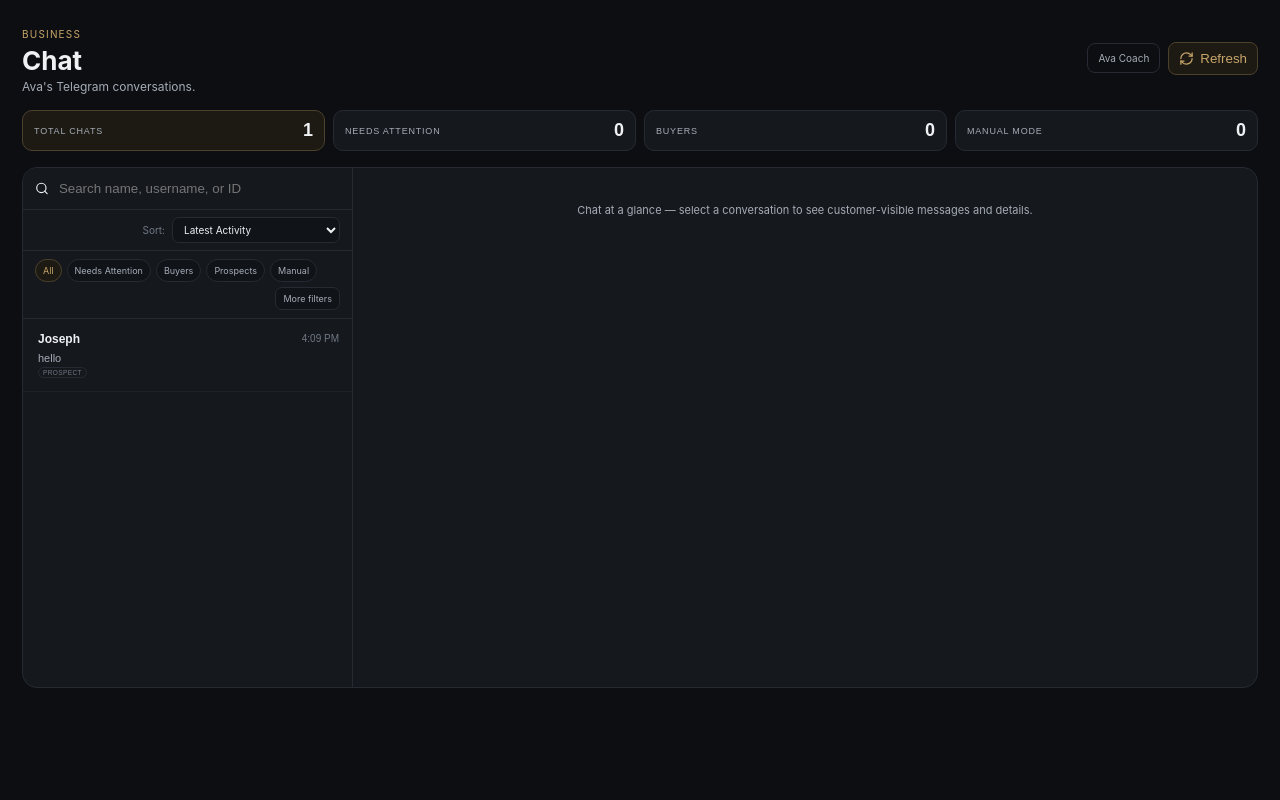
Scenario: PPV Escalation intelligence › renders Joseph's backend warming projection without a percentage or PPV Sales Stage
The image size is (1280, 800).
Step 1. Click the button "Joseph hello PROSPECT 4:09 PM" → (59, 339), box [23,319,352,392]
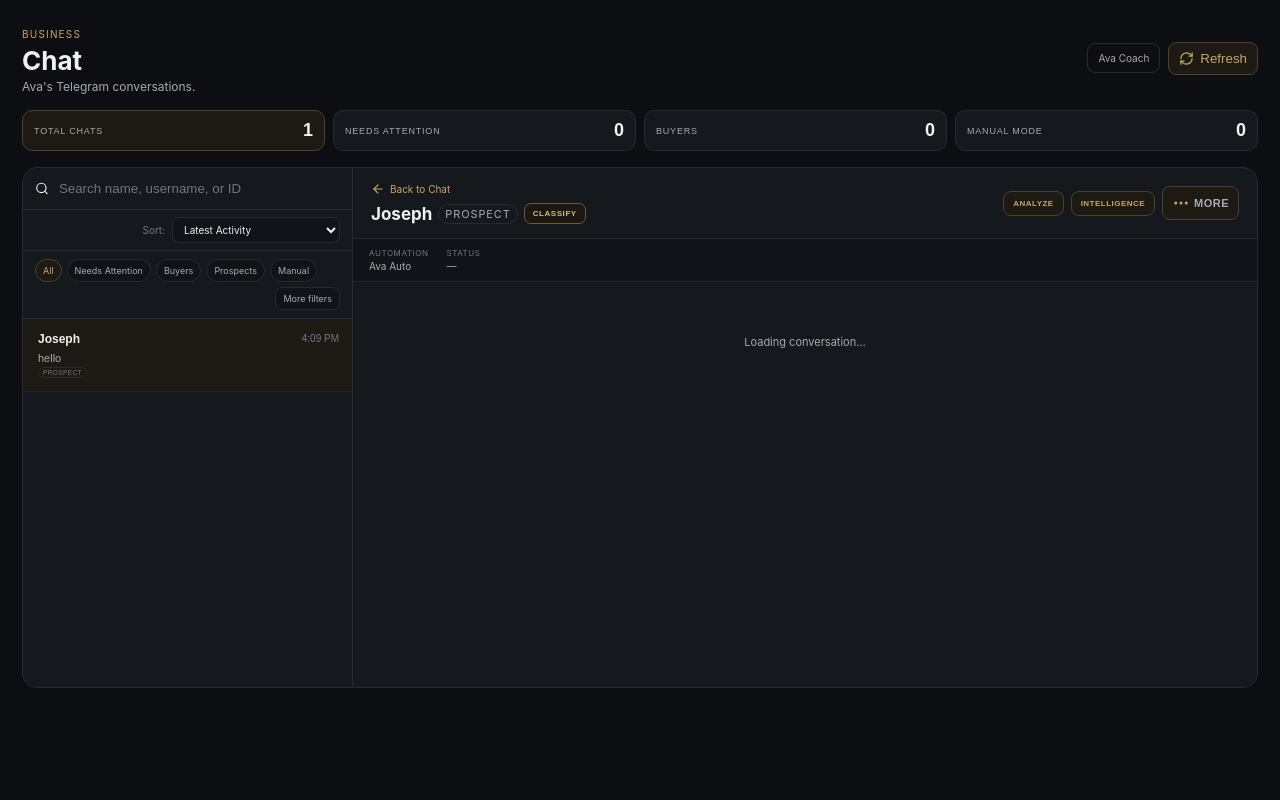
Step 2. Click the button with aria-label "Open Customer Intelligence" → (1113, 203), box [1071,190,1155,216]
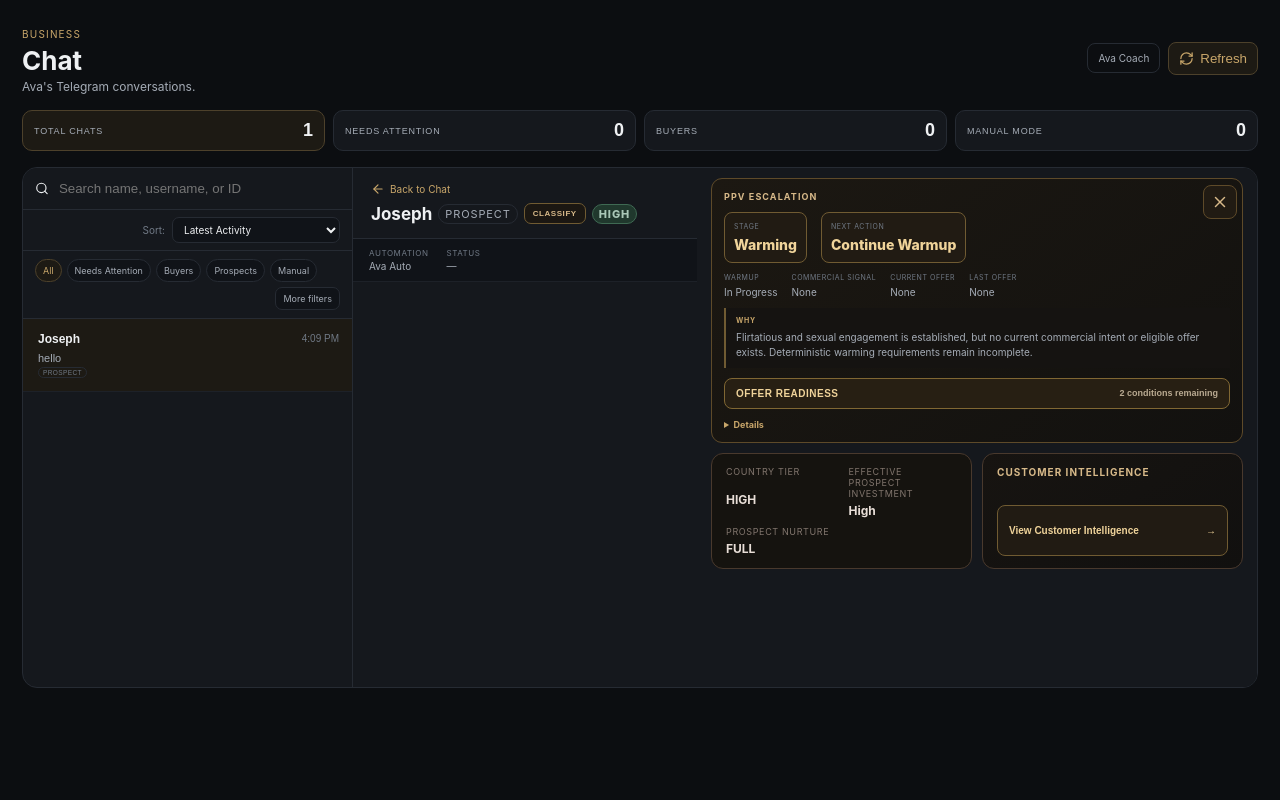
Expected: the element named "Customer Intelligence" is shown, [827,168,1257,687]
Expected: the element "PPV Escalation" shows "Warming", [734,236,797,253]
Expected: the element "PPV Escalation" shows "Continue Warmup", [831,236,956,253]
